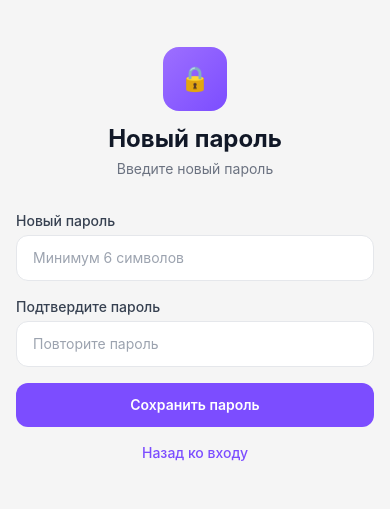
Test: ResetPassword › показывает ошибку при несовпадении паролей
This screenshot has width=390, height=509.
Step 1. Type "newpass123" into the password field with placeholder "Минимум 6 символов" → (195, 258), box 16,235 -> 374,281
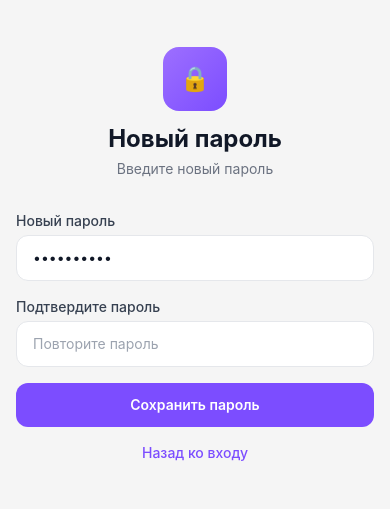
Step 2. Type "different" into the password field with placeholder "Повторите пароль" → (195, 344), box 16,321 -> 374,367
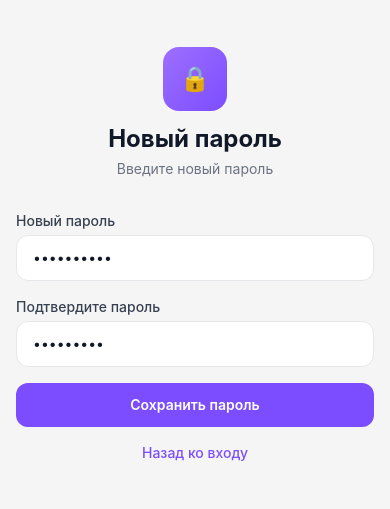
Step 3. Click the button "Сохранить пароль" → (195, 405), box 16,383 -> 374,427
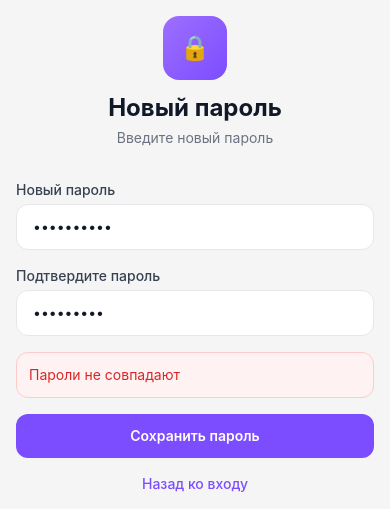
expect the text "Пароли не совпадают" is shown: met, box 16,352 -> 374,398
